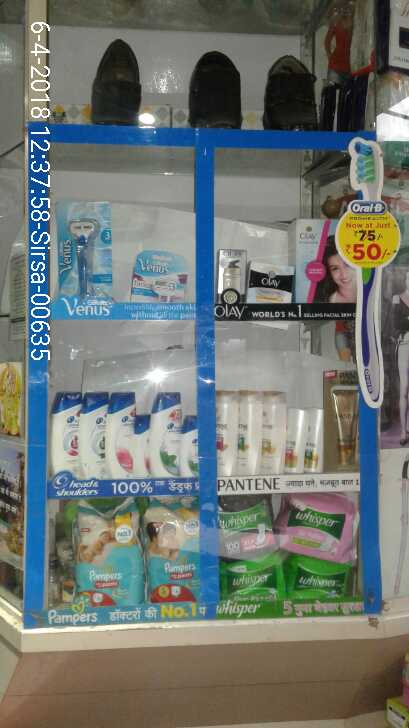venus: (60, 199, 112, 300), (130, 249, 187, 304)
